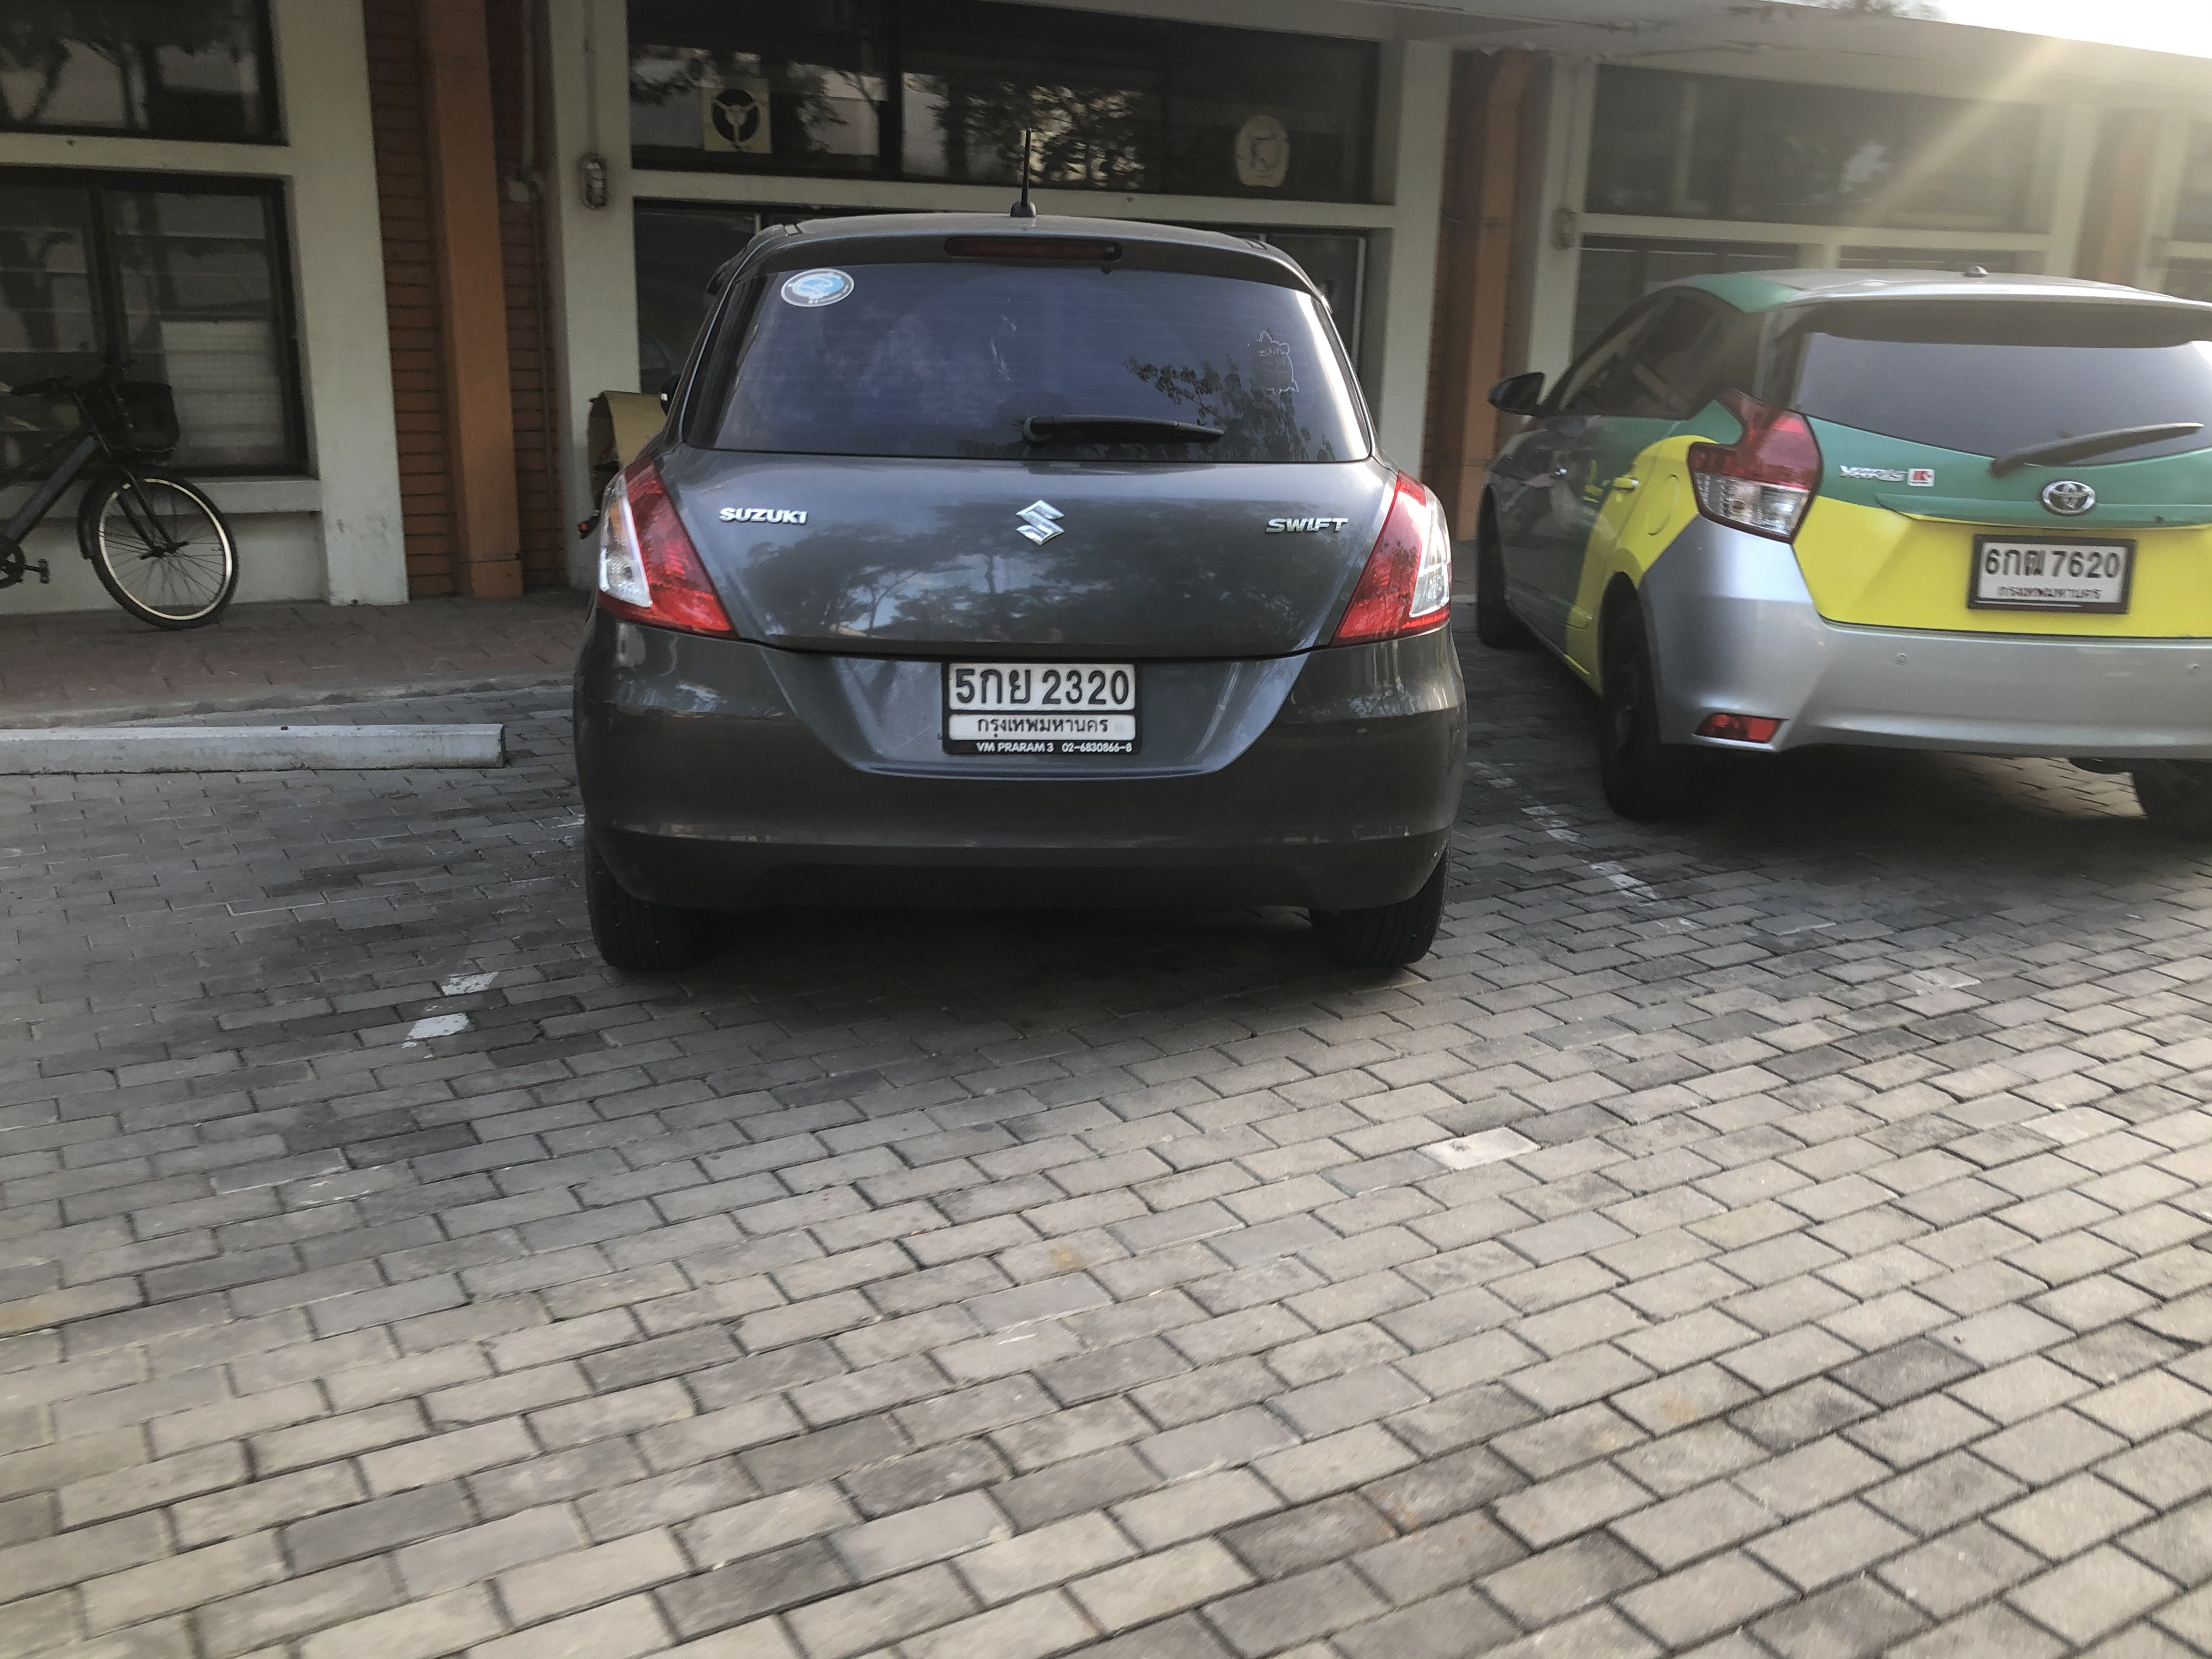in: (949, 659, 1141, 741), (1979, 538, 2127, 605)
out: (941, 647, 1150, 762), (1958, 530, 2141, 624)
